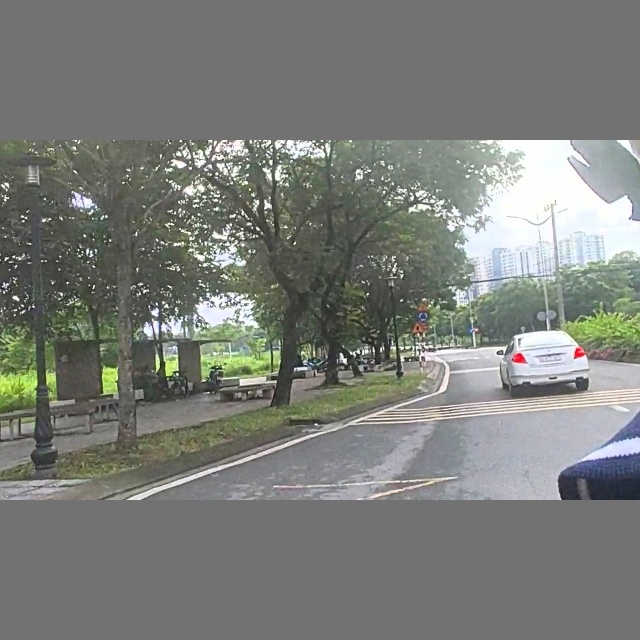P.102: (474, 327, 479, 333)
R.302a: (468, 327, 474, 334)
R.303: (417, 312, 427, 321)
W.207: (411, 321, 423, 334)
